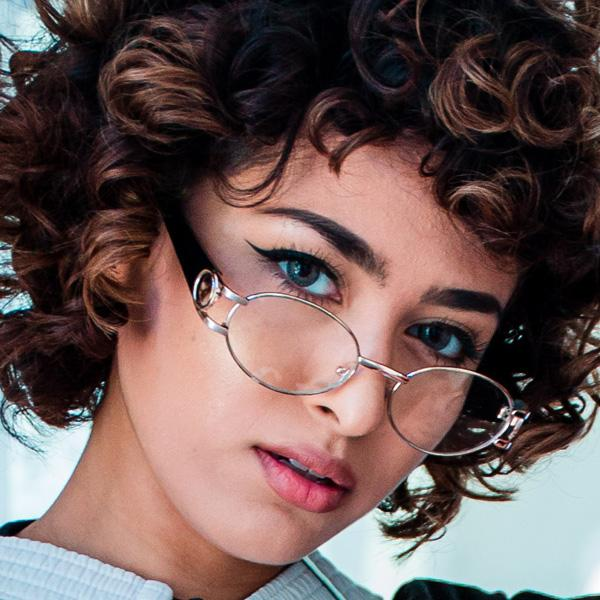Eyes: (256, 235, 351, 311), (398, 304, 479, 370)
